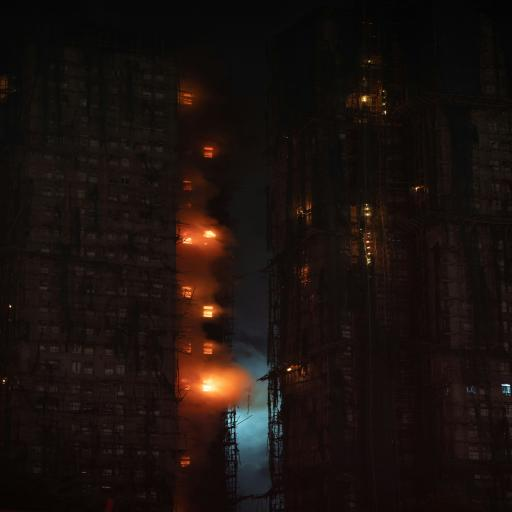buildingfire: (117, 0, 293, 512)
